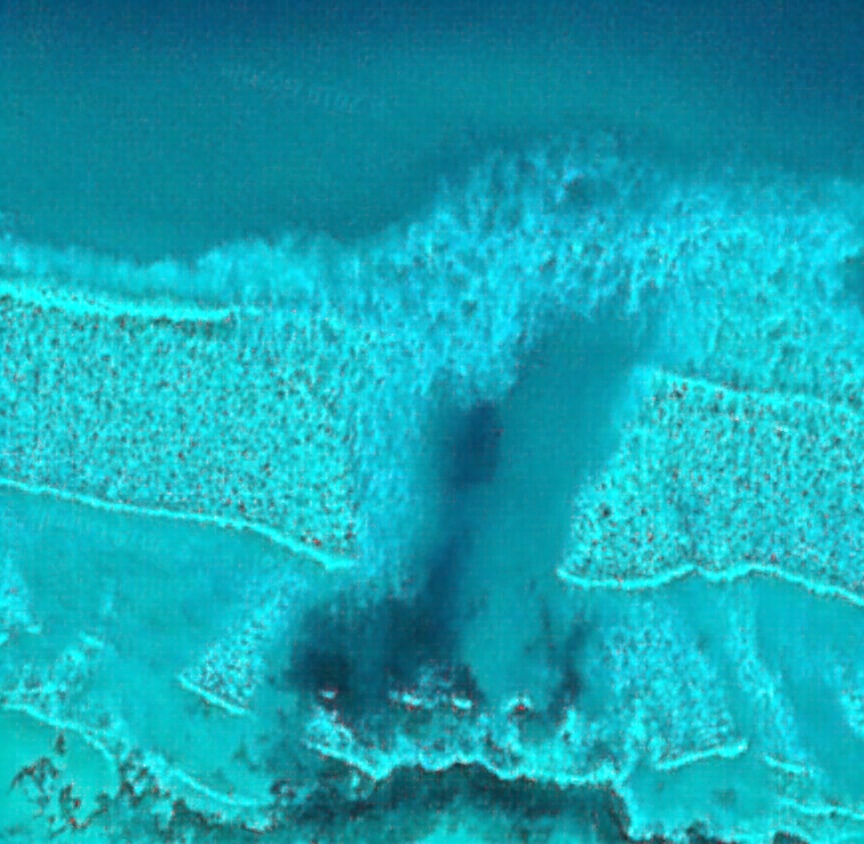rip_current: (271, 191, 685, 690)
